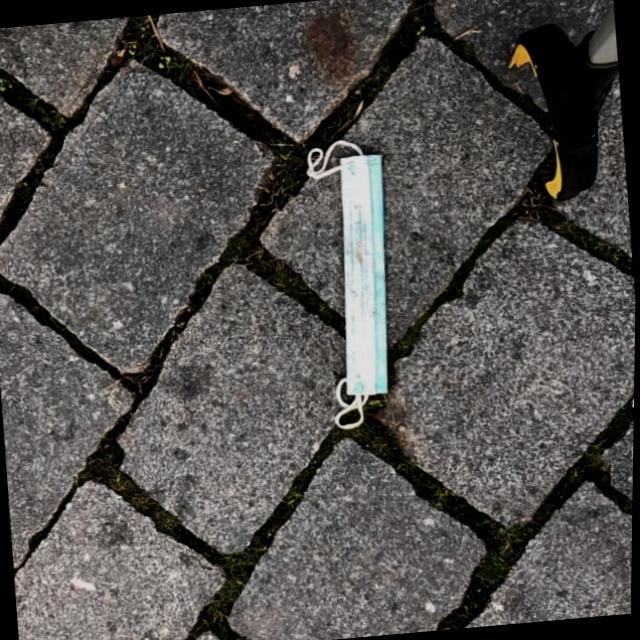Mask: (300, 134, 409, 433)
